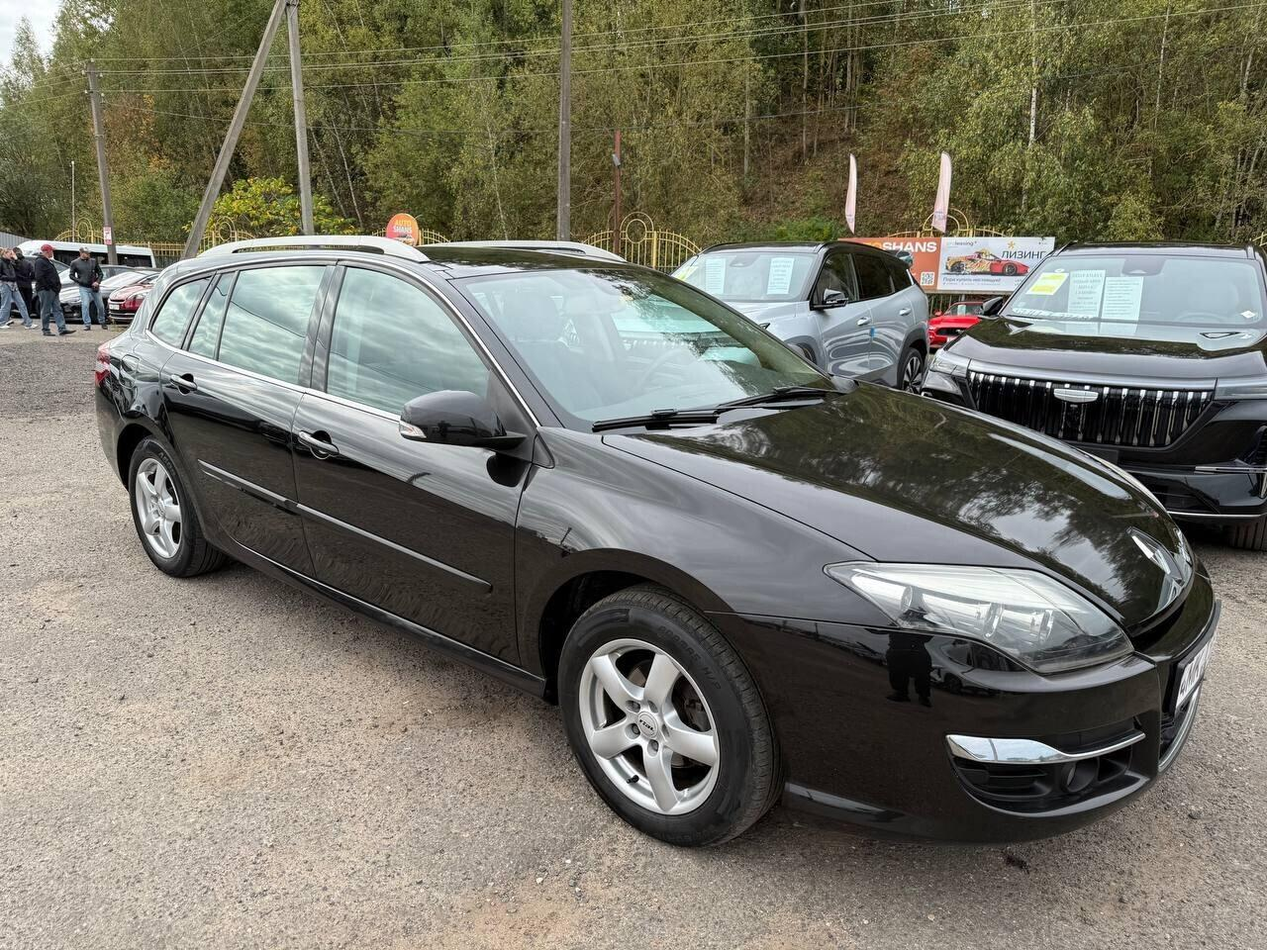Laguna_2010-2015: (90, 225, 1225, 835)
